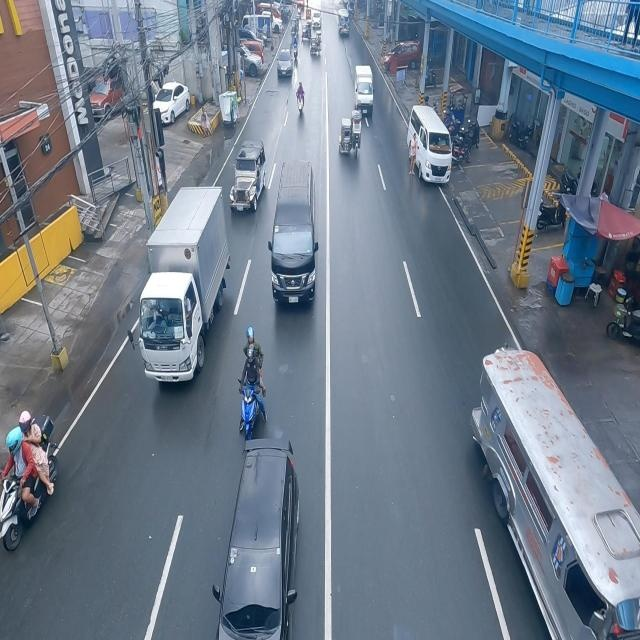Truck: (138, 184, 228, 388)
Van: (269, 159, 317, 309), (407, 102, 452, 188), (355, 65, 375, 119)
